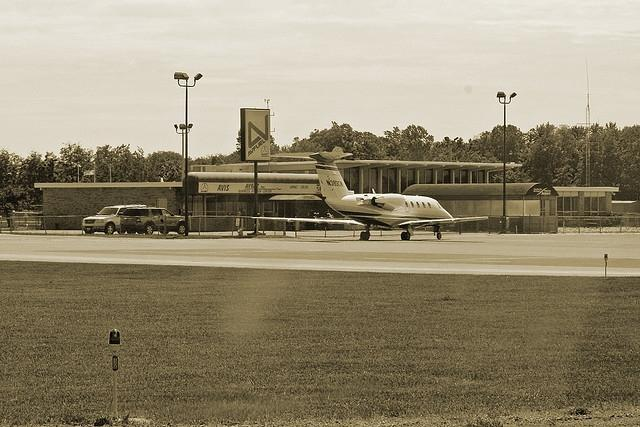car: (80, 204, 166, 235), (120, 209, 186, 237)
truck: (120, 207, 192, 235)
